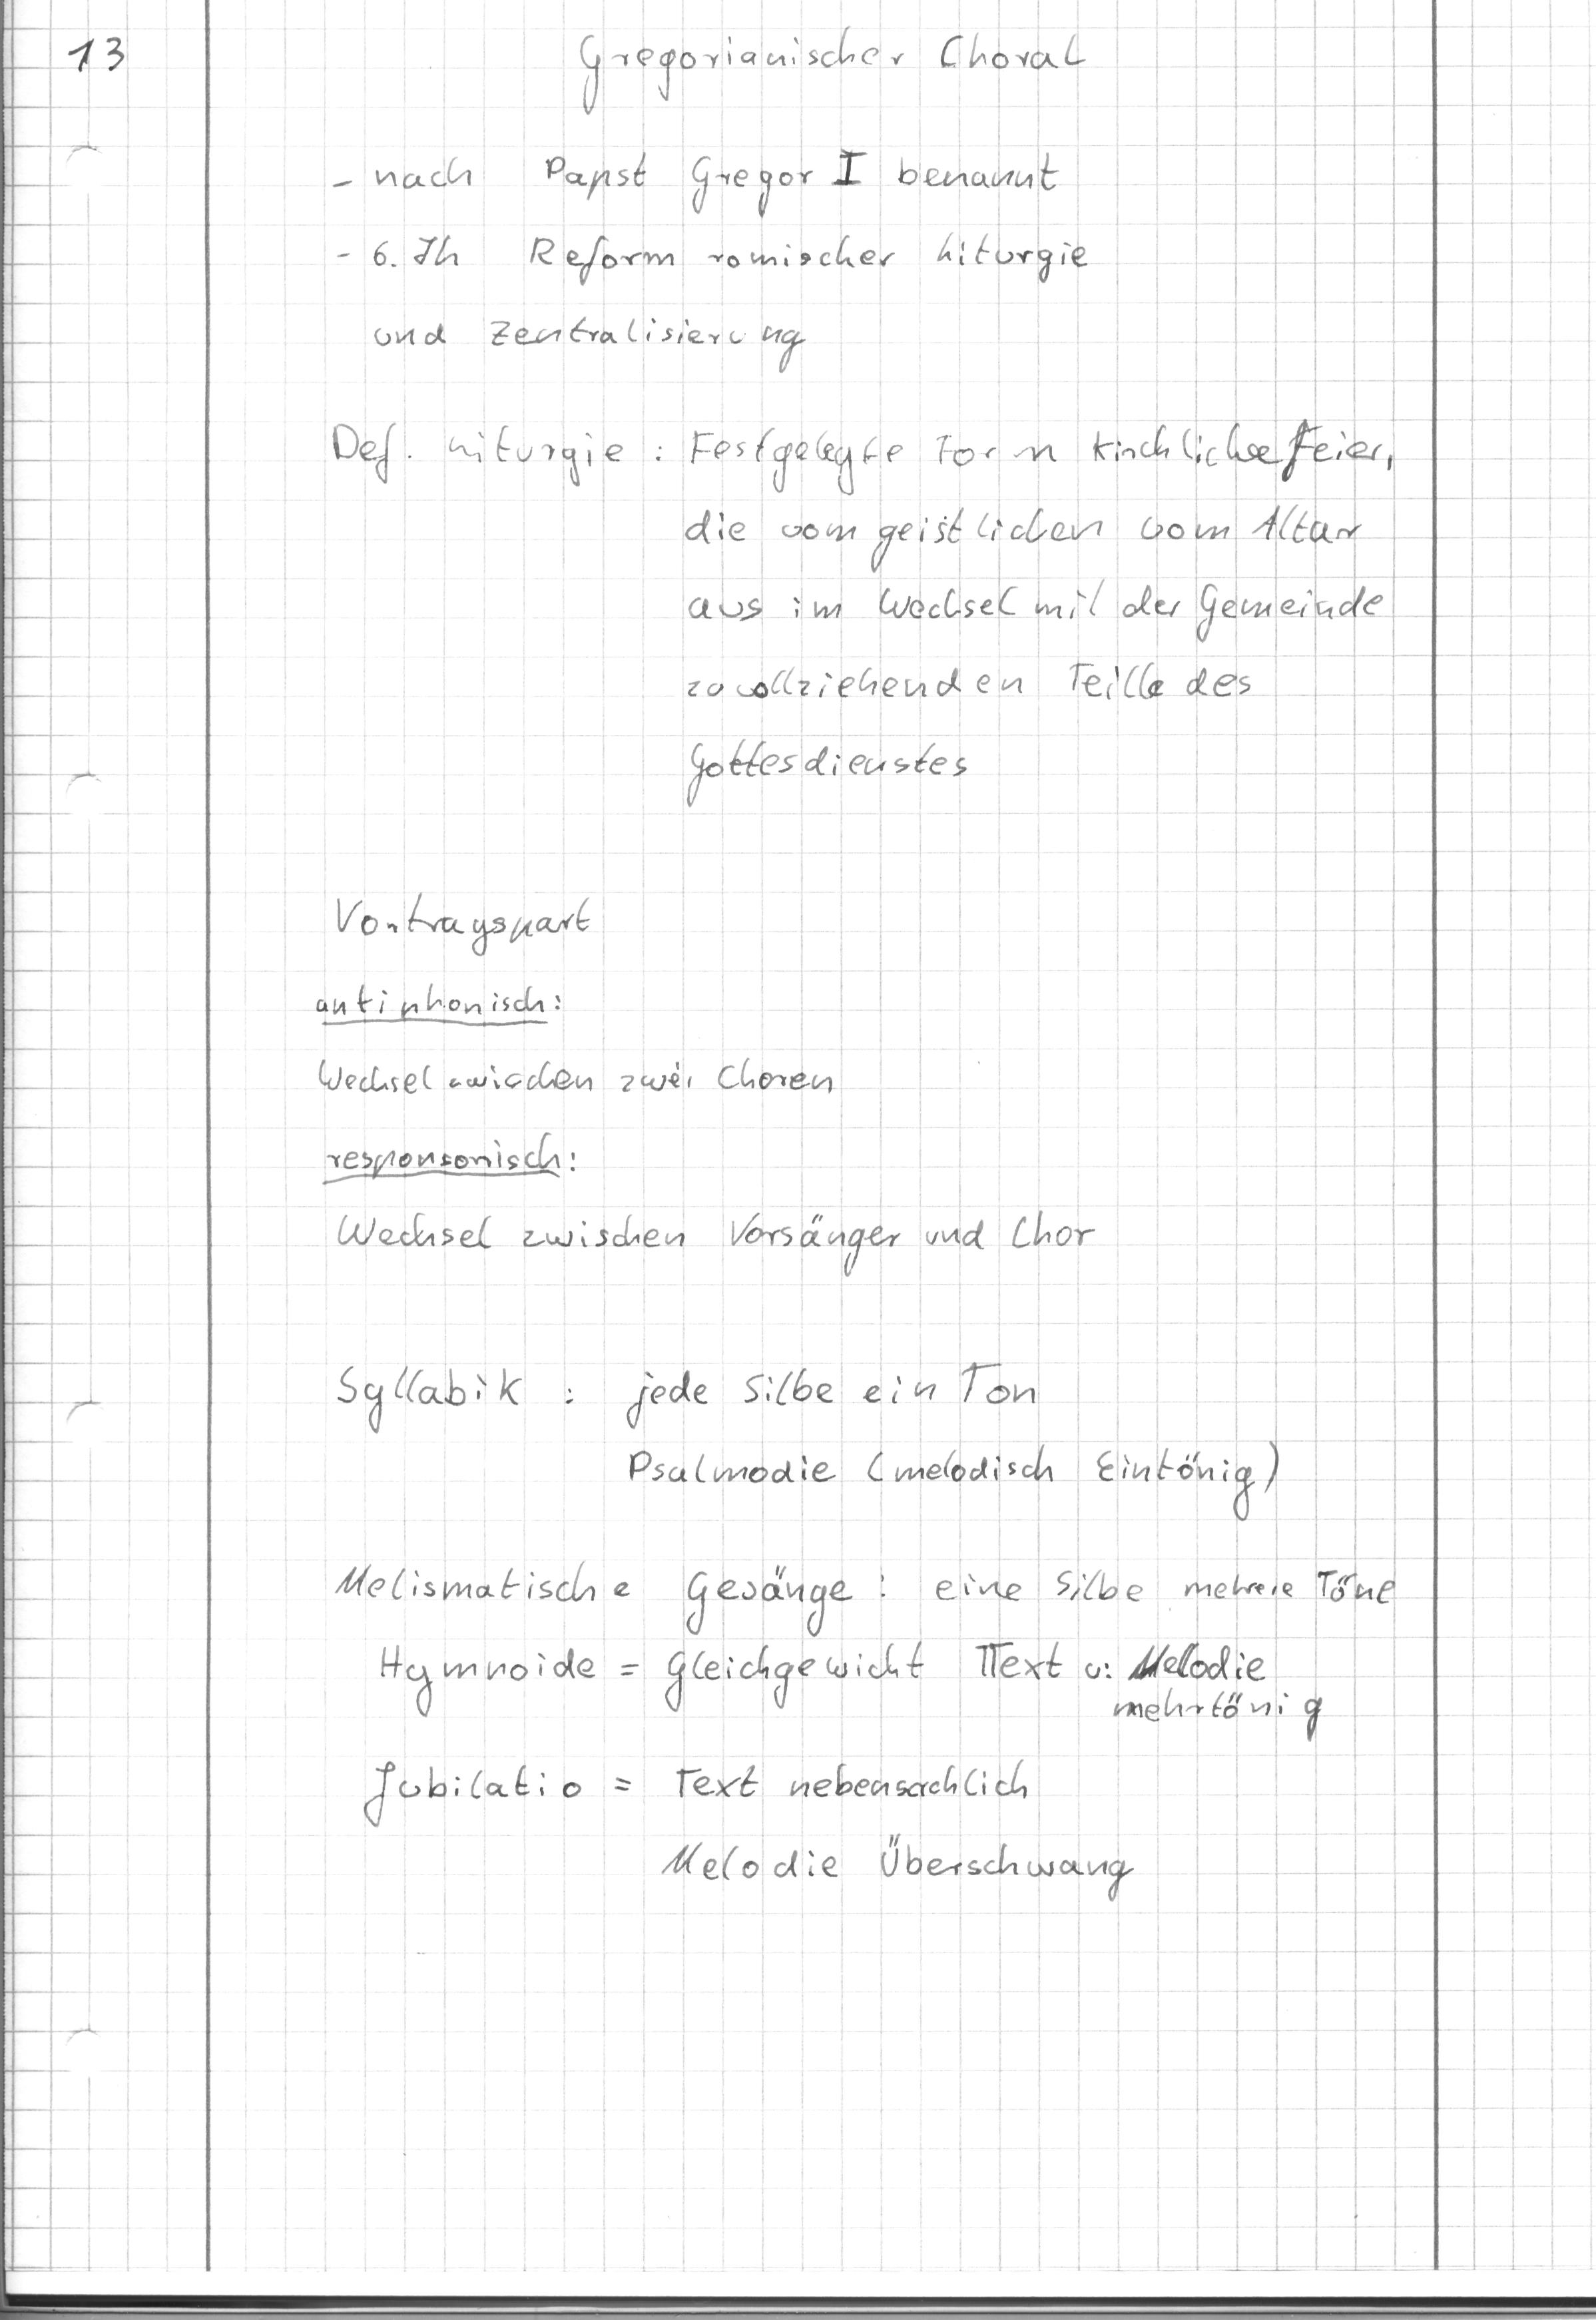word: (682, 411, 1405, 816), (328, 1555, 1399, 1749), (322, 148, 1101, 389), (622, 1358, 1297, 1526), (311, 1049, 846, 1189), (654, 1754, 1135, 1909), (328, 1203, 1103, 1293), (568, 25, 1112, 125), (310, 882, 601, 1035), (320, 411, 673, 503), (359, 1752, 643, 1846), (324, 1354, 584, 1453)
